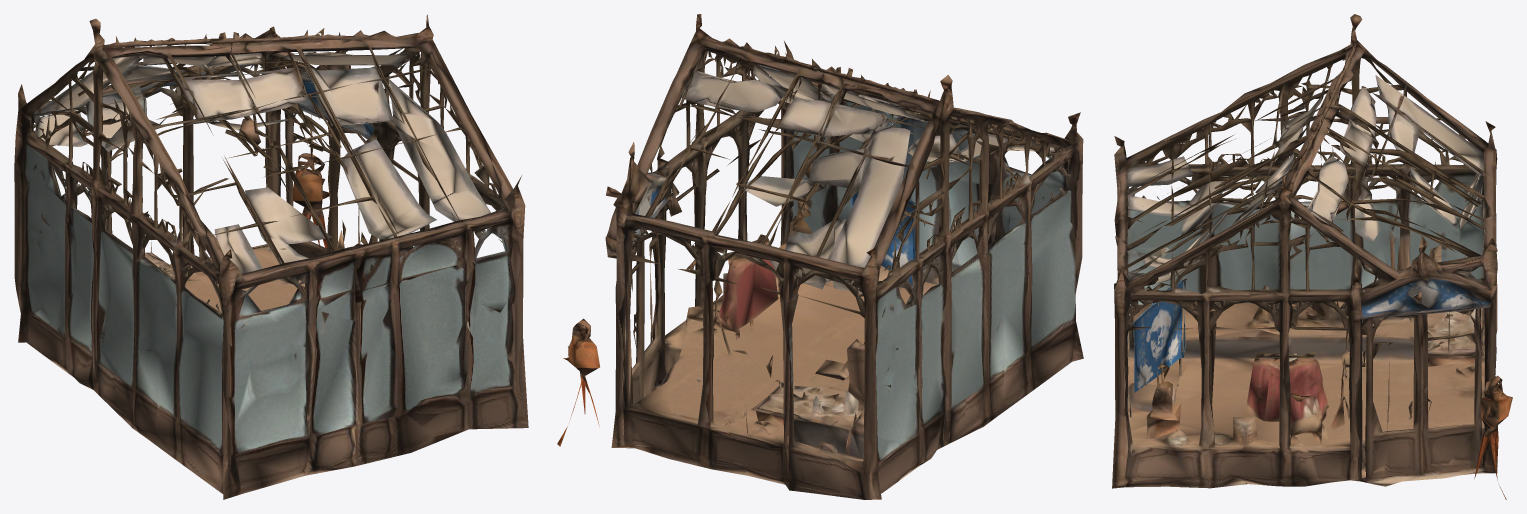
Rendered from lm_melies.glb.
3 renders of one model, left to right at view 1: azimuth 30°, elevation 25°; view 2: azimuth 150°, elevation 25°; view 3: azimuth 270°, elevation 25°, orthographic. The views are drawn at different scales.
Visible parts, largest first — view 1: tripo_node_67cf4a87-a7fc-4d25-bafa-959d44b421e5; view 2: tripo_node_67cf4a87-a7fc-4d25-bafa-959d44b421e5; view 3: tripo_node_67cf4a87-a7fc-4d25-bafa-959d44b421e5.
Part boxes in pixels (left/top/right/bottom): tripo_node_67cf4a87-a7fc-4d25-bafa-959d44b421e5: left=14, top=14, right=528, bottom=499; tripo_node_67cf4a87-a7fc-4d25-bafa-959d44b421e5: left=557, top=14, right=1083, bottom=499; tripo_node_67cf4a87-a7fc-4d25-bafa-959d44b421e5: left=1112, top=14, right=1512, bottom=499.
Size of the model in its own units: 0.8215 by 0.9586 by 0.9928.
Materials: 1 (1 with a texture image).
